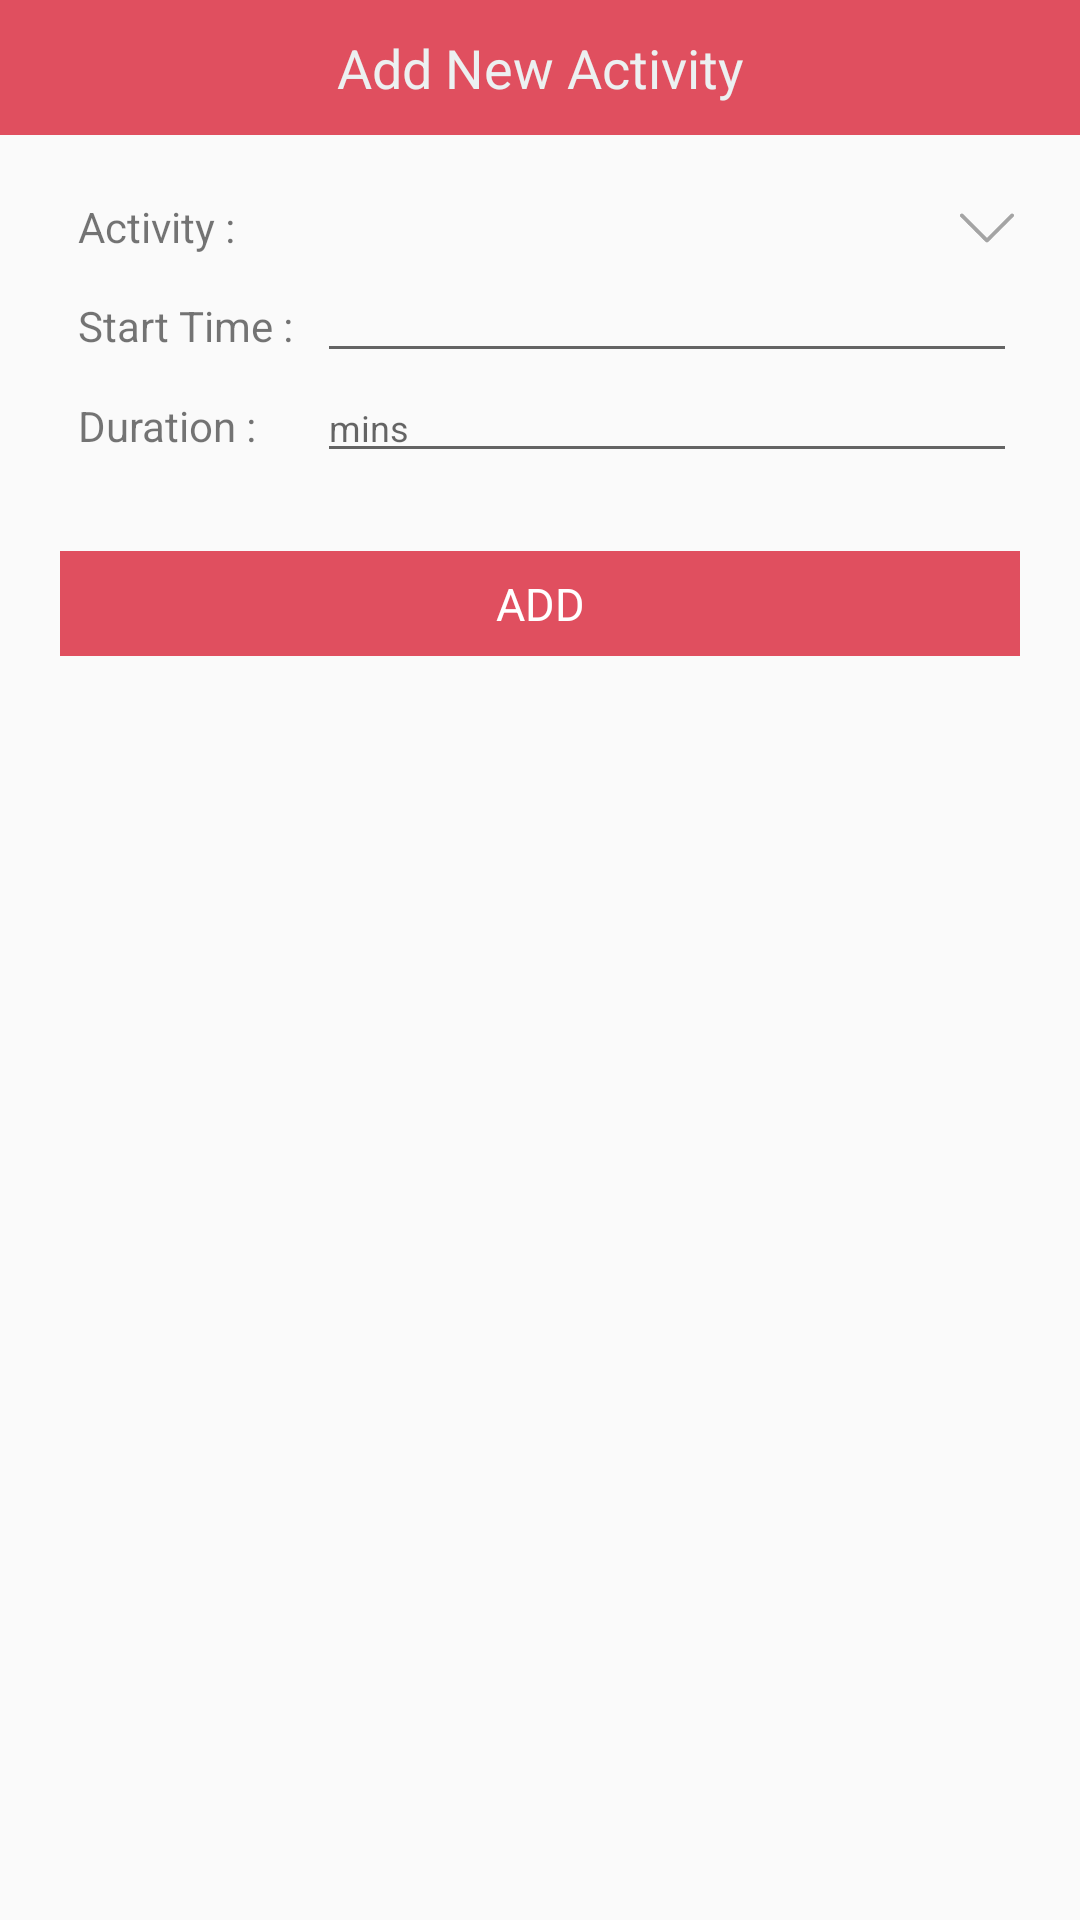

Locate icon controls on the screen. Image size 1080px x 1920px, boxes as (x1, y1, x2, y2).
arrow: (960, 213, 1014, 243)
